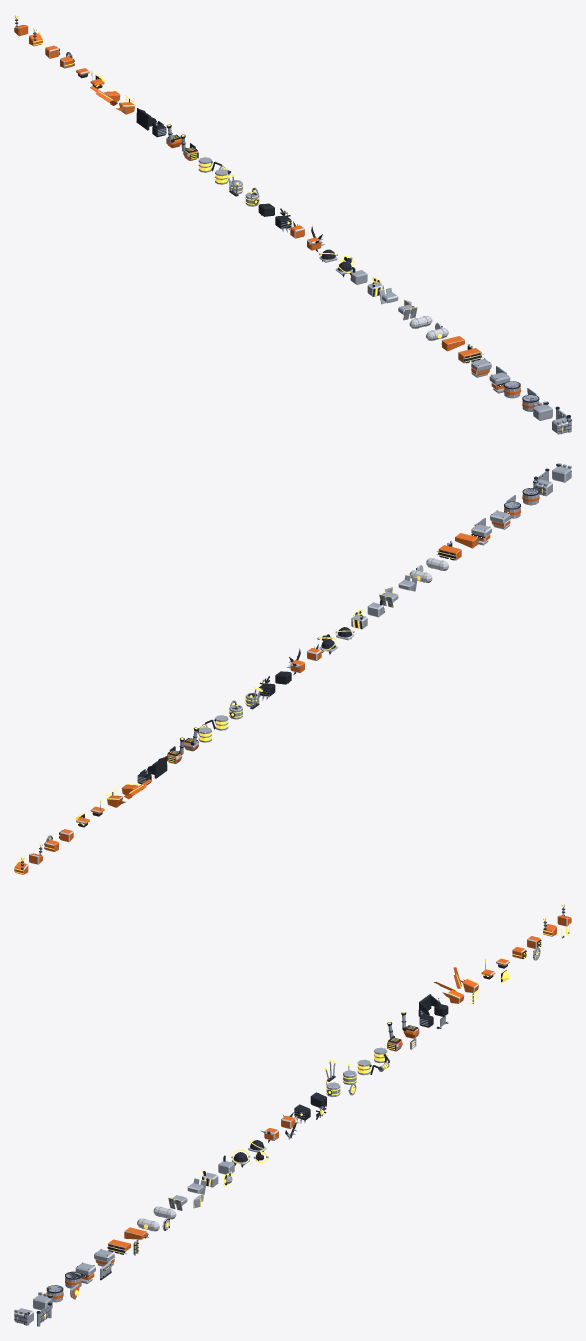
The model's file is cores.glb.
3 renders of one model, top to bottom at view 1: azimuth 30°, elevation 25°; view 2: azimuth 150°, elevation 25°; view 3: azimuth 330°, elevation 25°, orthographic.
Visible parts, largest first — view 1: bastion, titan, aegis, rail; view 2: bastion, titan, rail, aegis; view 3: bastion, titan, shroud, phantom, reactor, aegis, rail, furnace, deflector.
Part boxes in pixels (x1,y1,x2,y2): bastion: [533, 401, 571, 434]; titan: [471, 358, 510, 393]; aegis: [503, 381, 539, 411]; rail: [441, 336, 483, 363]; bastion: [533, 463, 571, 496]; titan: [471, 510, 510, 545]; rail: [436, 533, 478, 560]; aegis: [504, 488, 539, 518]; bastion: [14, 1292, 52, 1326]; titan: [75, 1249, 114, 1283]; shroud: [418, 994, 448, 1028]; phantom: [434, 967, 479, 1003]; reactor: [324, 1059, 357, 1097]; aegis: [46, 1271, 81, 1302]; rail: [107, 1227, 148, 1255]; furnace: [387, 1012, 419, 1051]; deflector: [168, 1178, 206, 1210].
Bounding box in the file's own units: 1.31 × 1.04 × 31.96.
